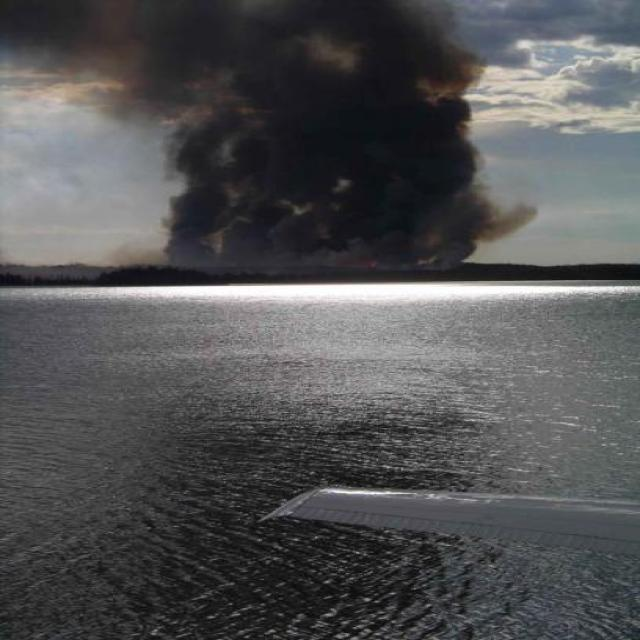Smoke: (0, 1, 535, 277)
